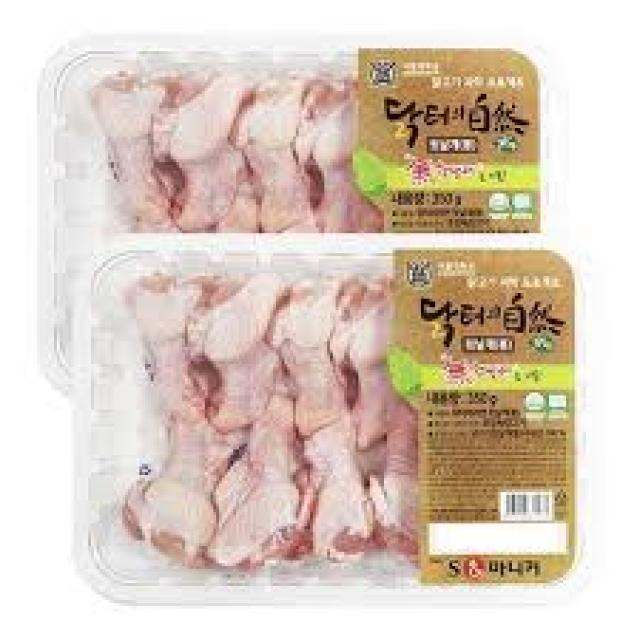chicken: (70, 240, 580, 600), (77, 49, 553, 232)
